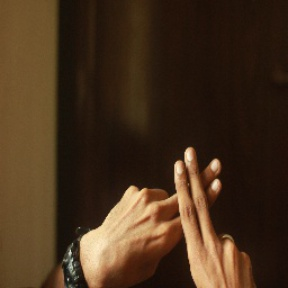F: (148, 133, 241, 251)
